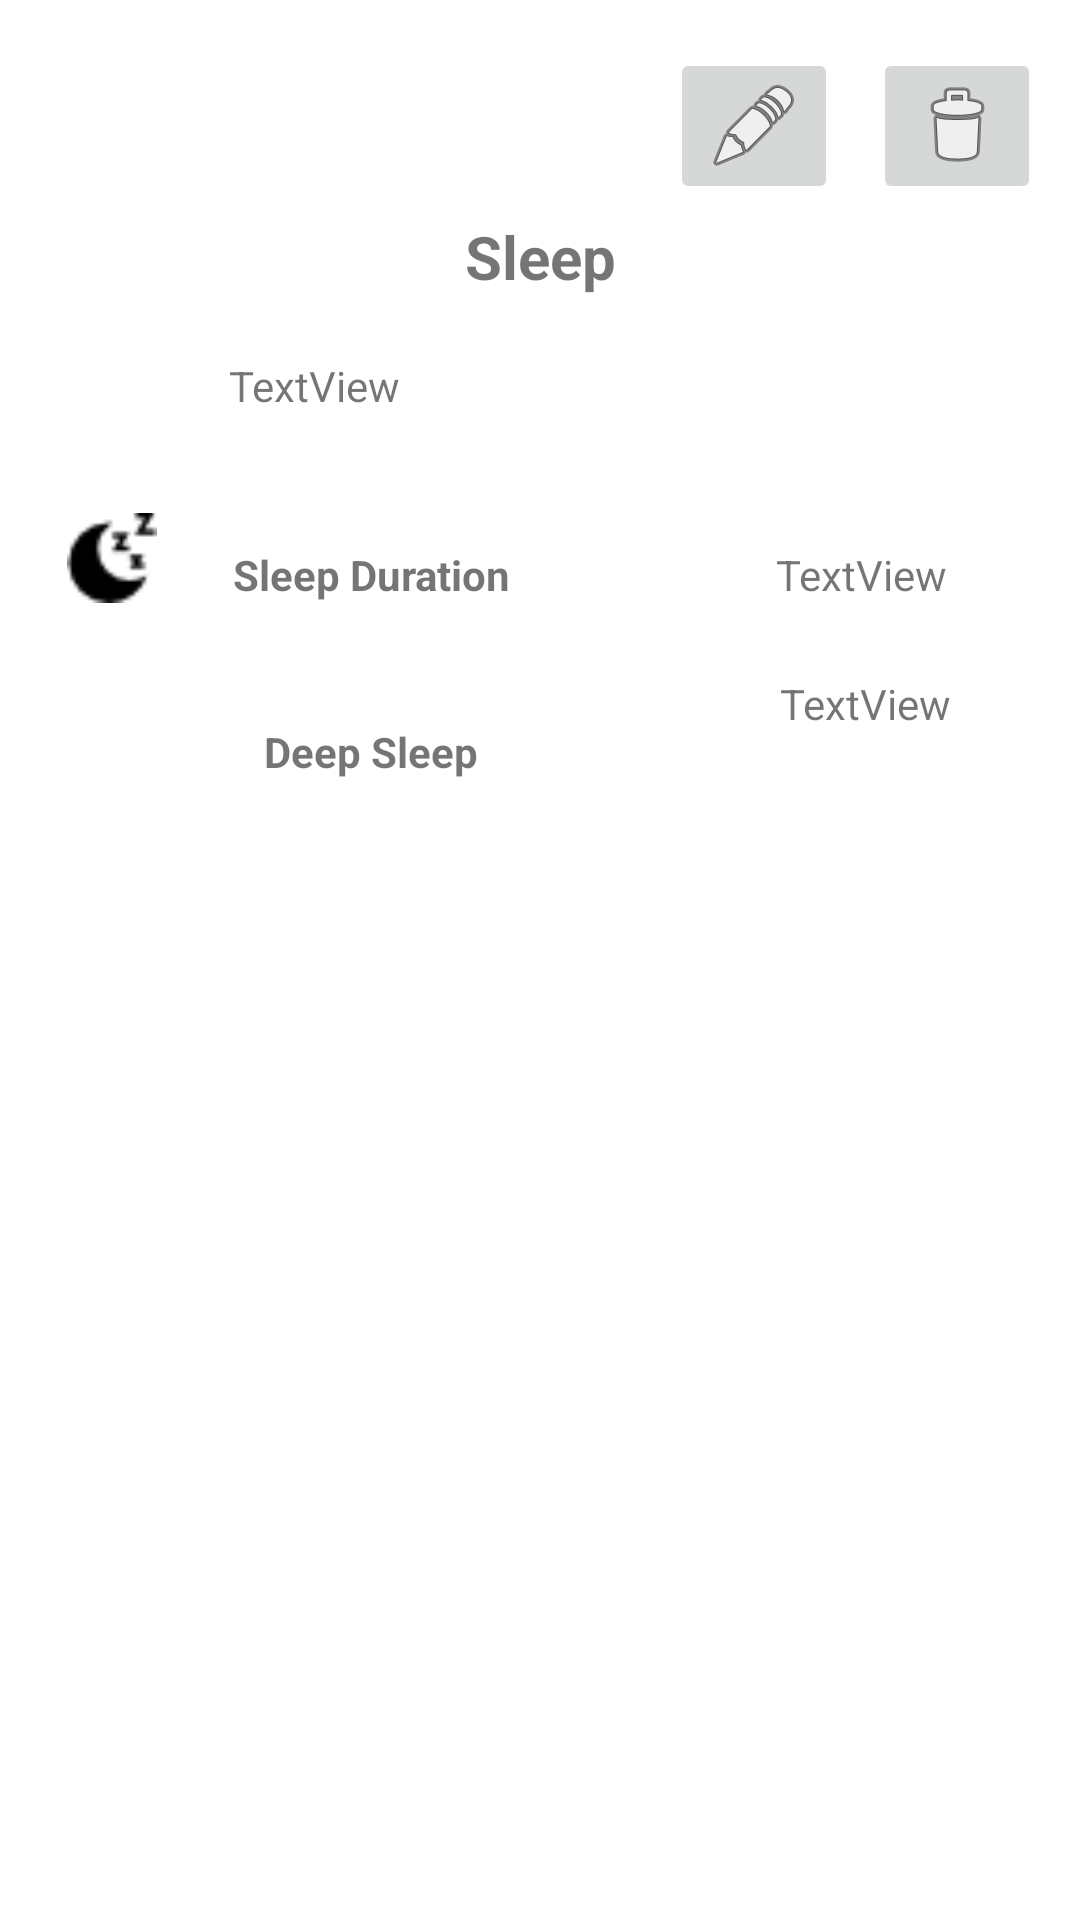

Screen size 1080 × 1920. Icon name, then its center in pixels as [x,y]:
delete: [957,126]
edit: [754,126]
